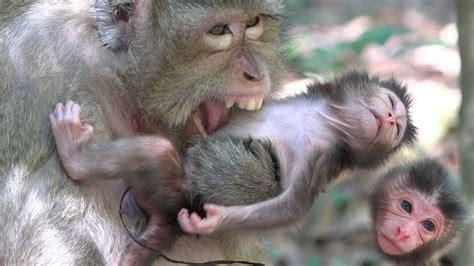monkey: (1, 1, 281, 265), (52, 74, 408, 232), (376, 160, 464, 266)
